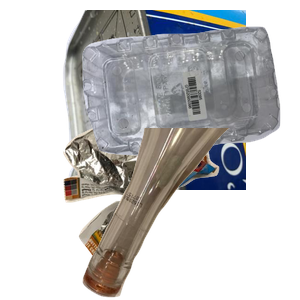glass: (80, 128, 300, 300)
metal: (60, 10, 300, 190)
plastic: (80, 24, 300, 172)
trash: (61, 123, 273, 300)
